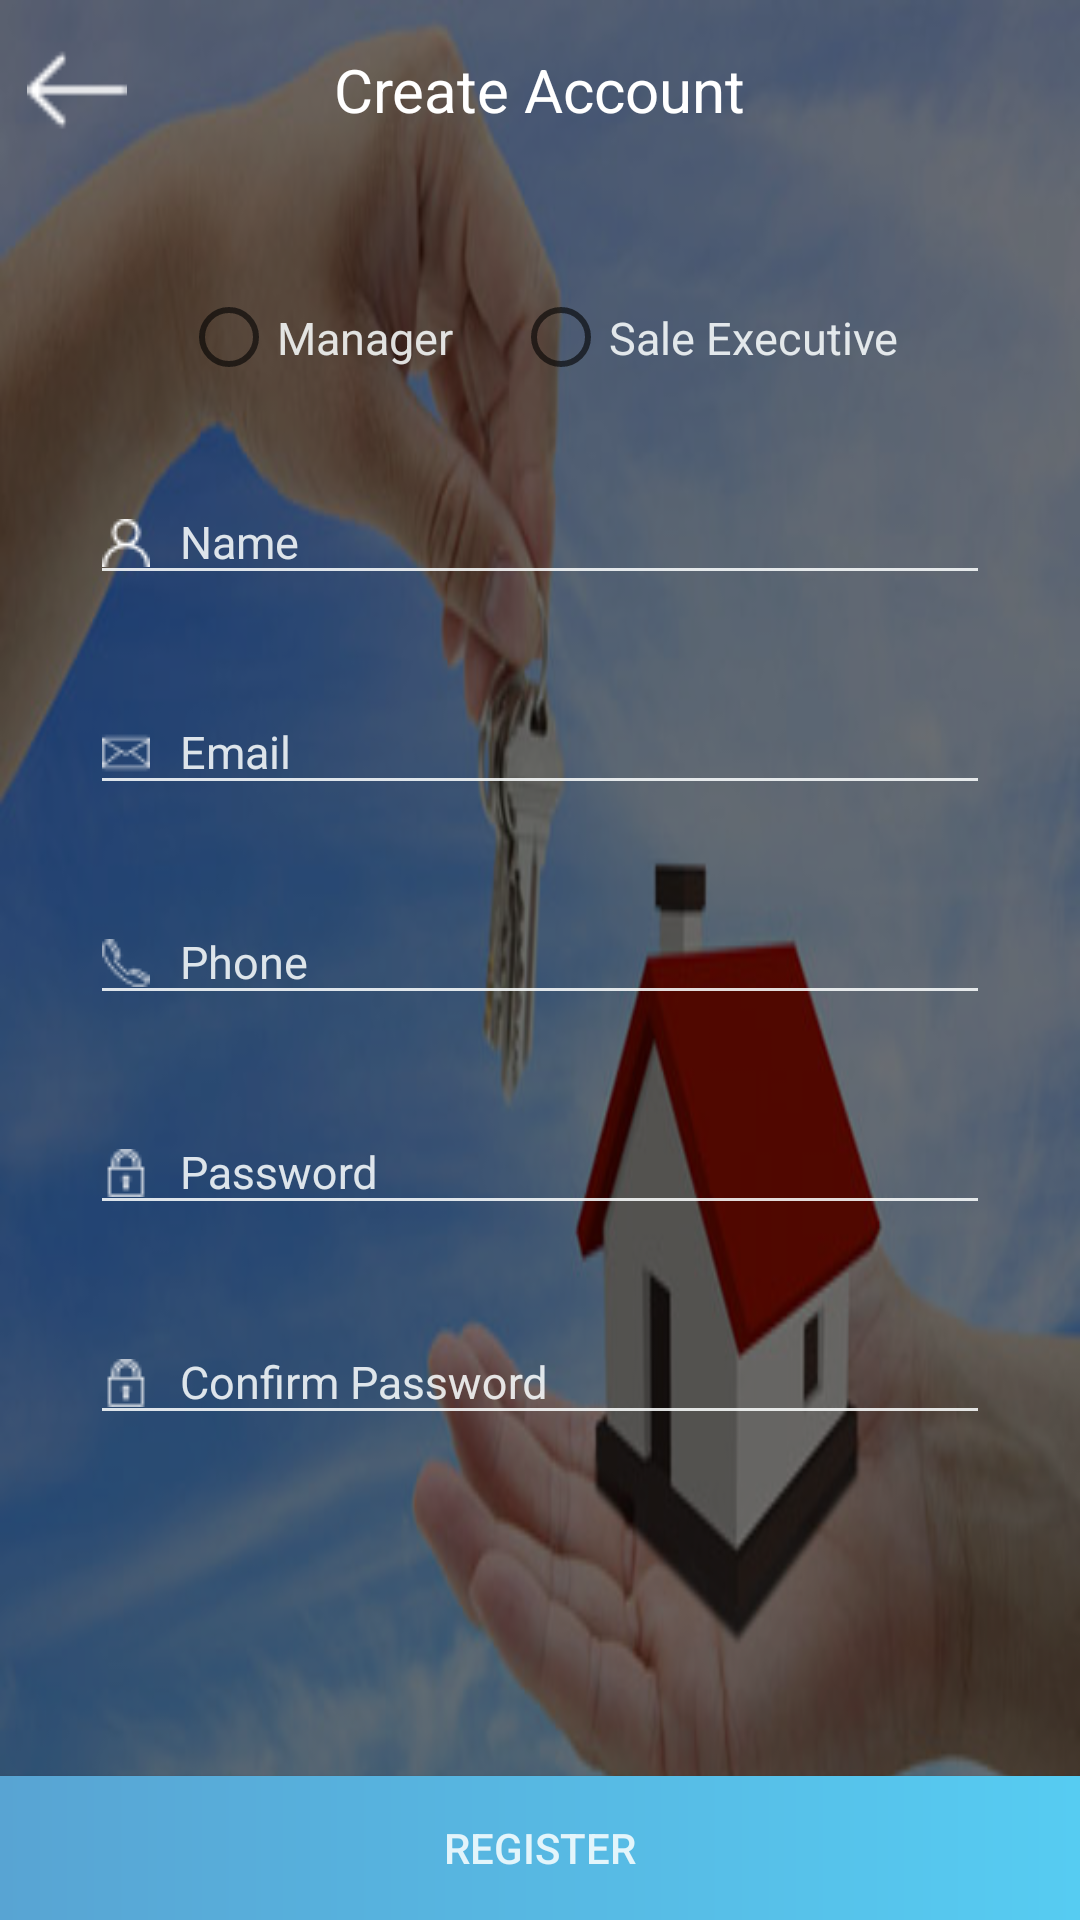

Screen size 1080 x 1920. Icon name, then its center in pixels as (x,y):
back arrow: (77,90)
